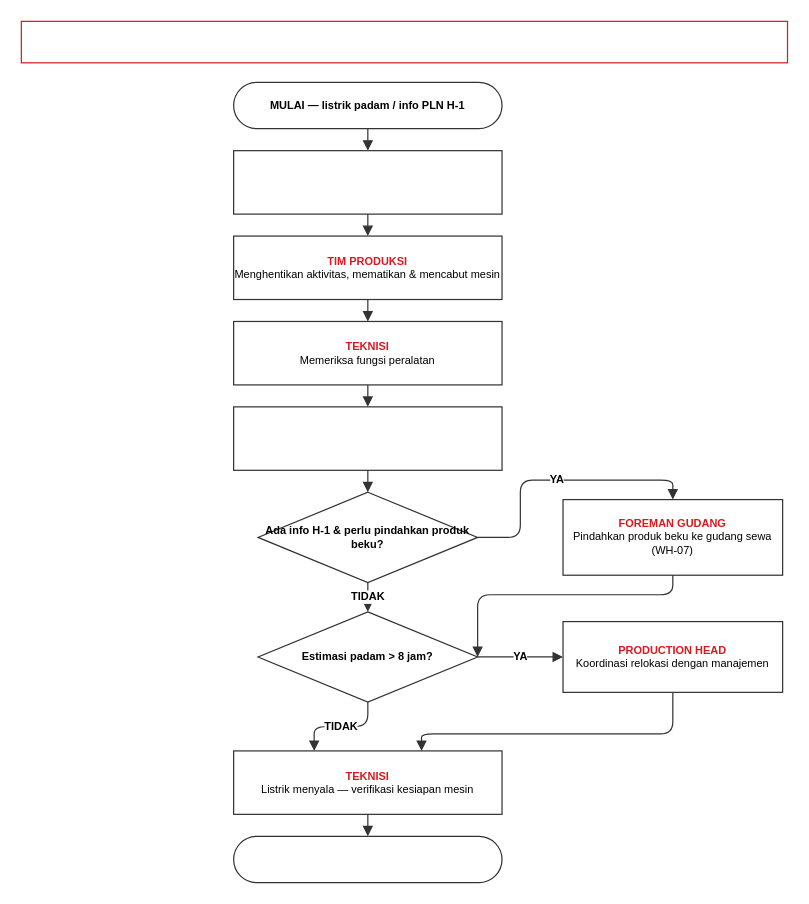
Image size: 809x904. Some labels were removed from this diagram. Here are the shapes that lost their labels. From the top down, the centre of each, then its label:
At point (404, 41): "FLOW SOP-AKSI-ENG-06 PENANGANAN LISTRIK PADAM — UTUH".
At point (367, 181): "SPV MAINTENANCE Menotifikasi ke seluruh area".
At point (367, 438): "FOREMAN GUDANG Menutup rapat cold storage".
At point (367, 859): "SELESAI — operasional pulih".
